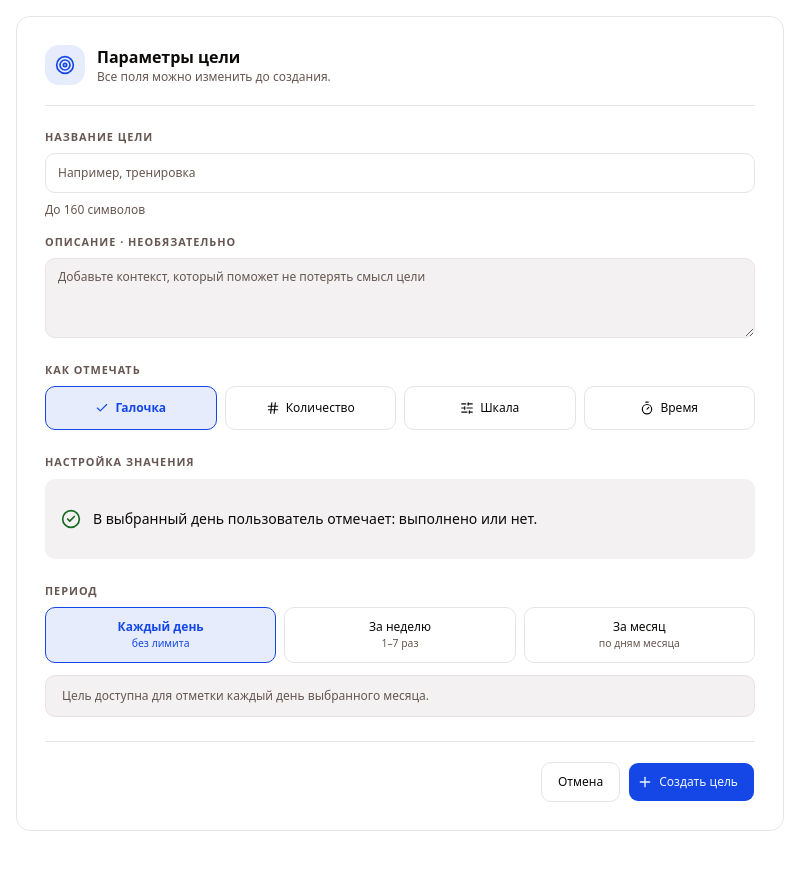
it: CreateGoalForm › shows an accessible error and preserves entered values
Type "Чтение" into the field labelled "Название цели" at (400, 173), box left=45, top=153, right=755, bottom=193
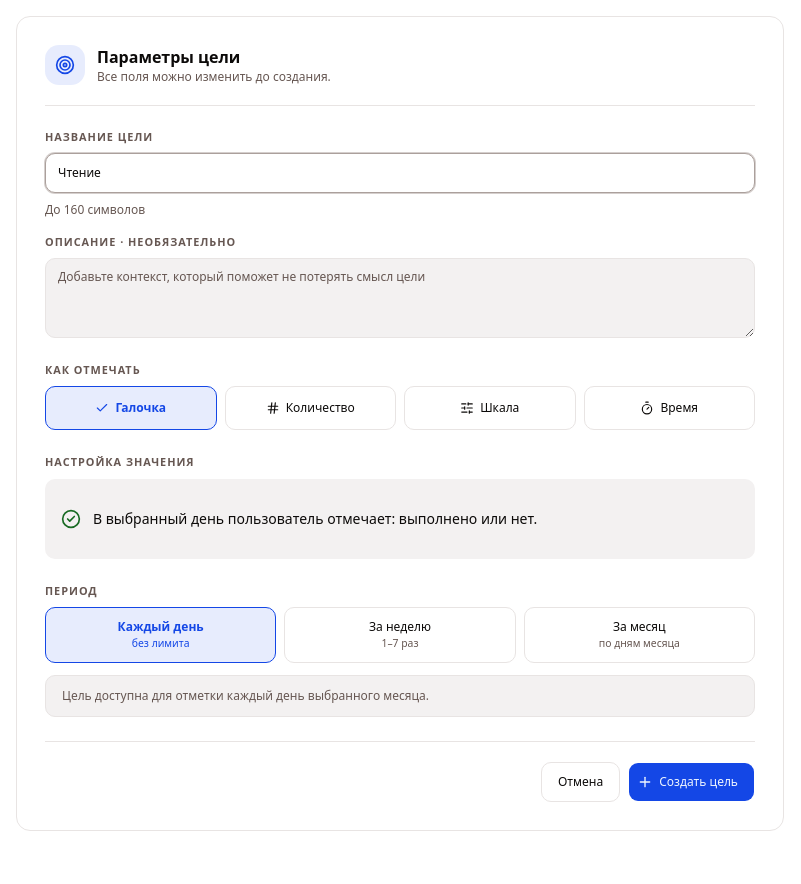
Click the button named "Создать цель" at (692, 782), box left=628, top=762, right=755, bottom=802
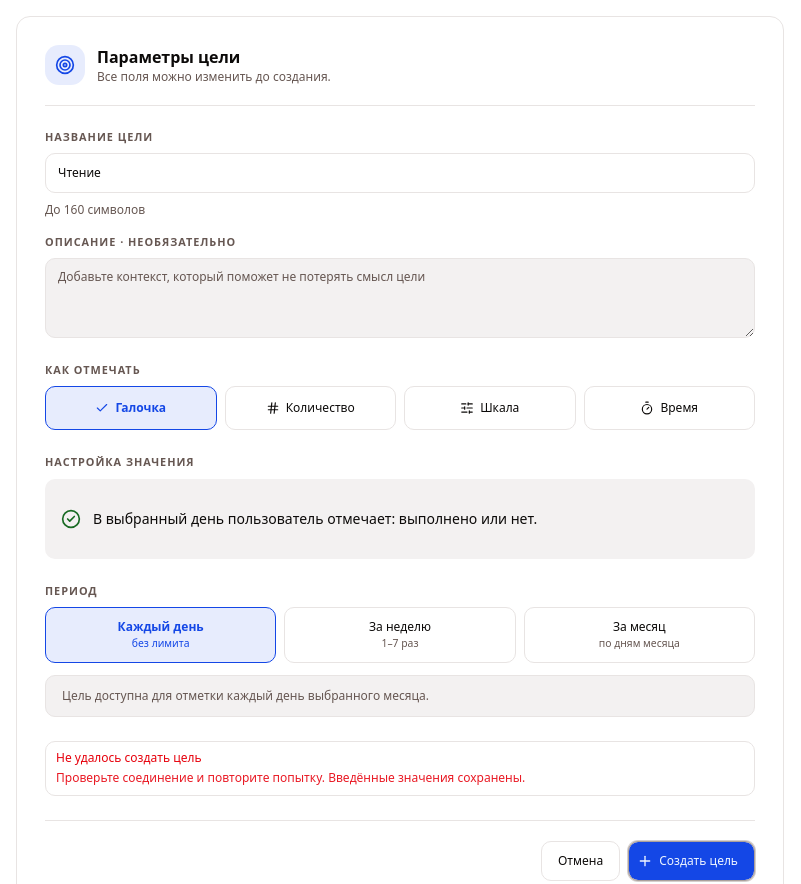
Now the message shows "Не удалось создать цель", box left=56, top=749, right=202, bottom=766
